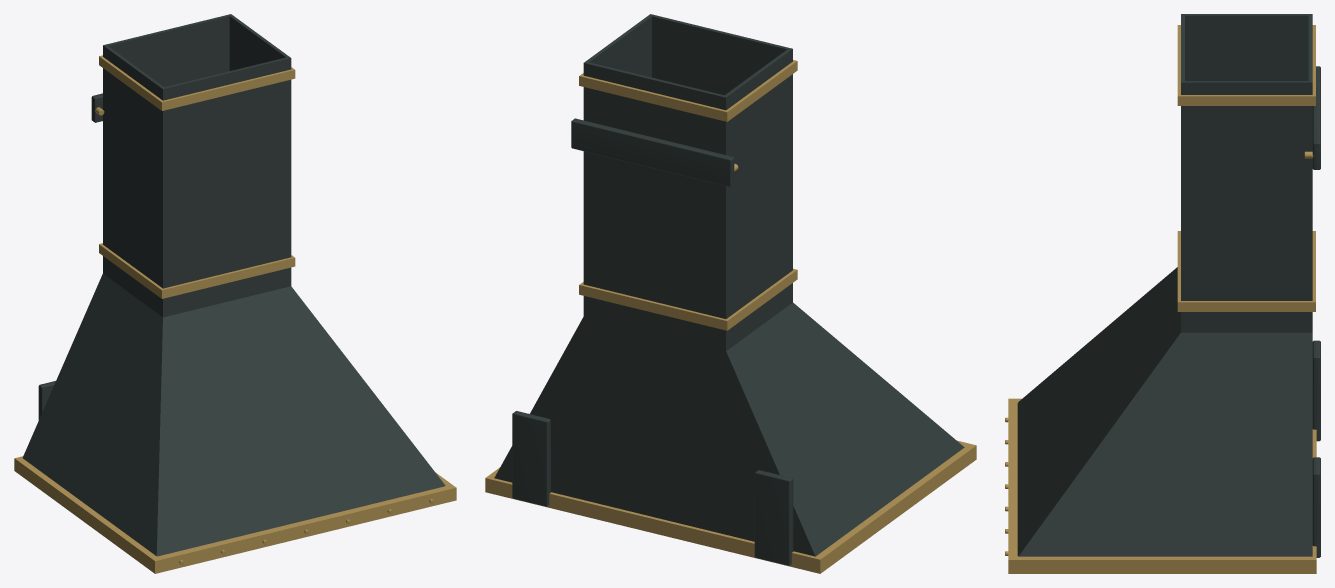
The model's file is rpg-mansion-period-range-canopy-01.glb.
3 renders of one model, left to right at view 1: azimuth 30°, elevation 25°; view 2: azimuth 150°, elevation 25°; view 3: azimuth 270°, elevation 25°, orthographic. The views are drawn at different scales.
Visible parts, largest first — view 1: rpg-mansion-period-range-canopy-01; view 2: rpg-mansion-period-range-canopy-01; view 3: rpg-mansion-period-range-canopy-01.
Part boxes in pixels (<box>): rpg-mansion-period-range-canopy-01: <box>14,14,456,573</box>; rpg-mansion-period-range-canopy-01: <box>485,14,976,573</box>; rpg-mansion-period-range-canopy-01: <box>1005,14,1320,573</box>.
Bounding box in the file's own units: 0.94 × 1.21 × 0.778.
